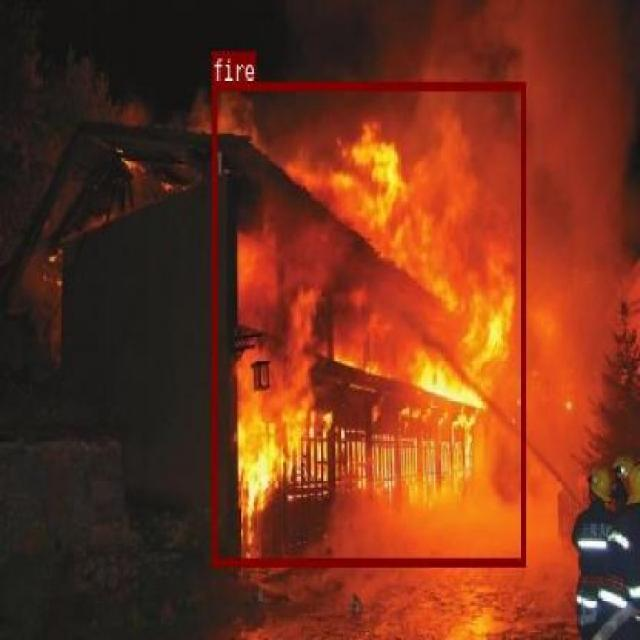fire: (210, 80, 524, 565)
